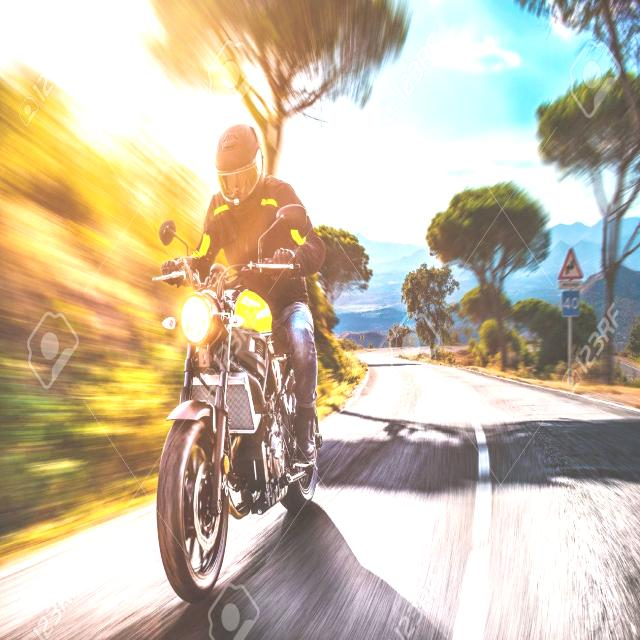MOTORCYCLE: (150, 274, 318, 602)
